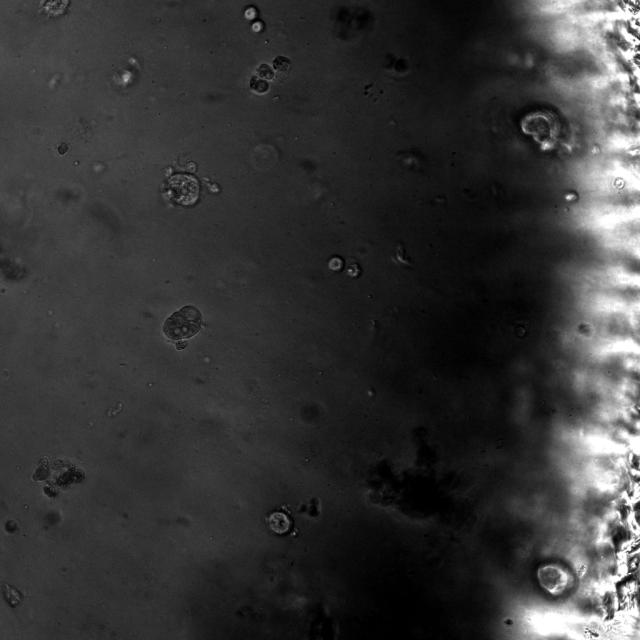organoid: (366, 426, 471, 525), (159, 156, 221, 208), (32, 455, 85, 497), (162, 304, 203, 350), (520, 110, 559, 150), (249, 56, 290, 94), (536, 561, 575, 597), (265, 505, 294, 536), (328, 255, 361, 279), (243, 4, 265, 33), (294, 496, 321, 519), (39, 0, 70, 18), (0, 582, 22, 607), (3, 518, 19, 534), (57, 142, 69, 155)
